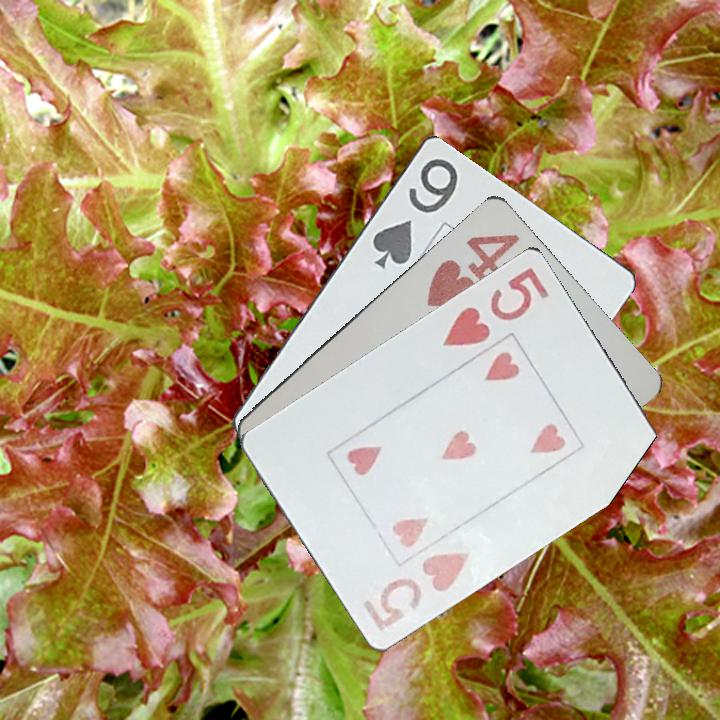4h: (422, 229, 523, 310)
5h: (359, 547, 475, 634), (438, 263, 552, 349)
9s: (368, 153, 461, 272)
